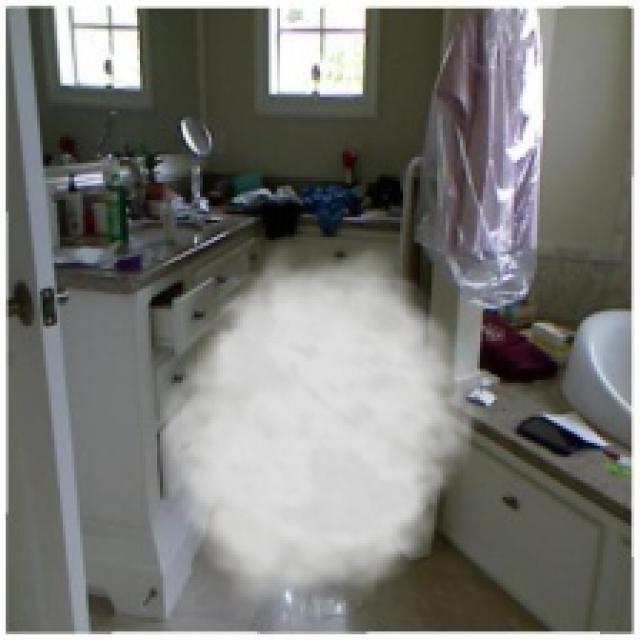smoke: (148, 243, 492, 617)
